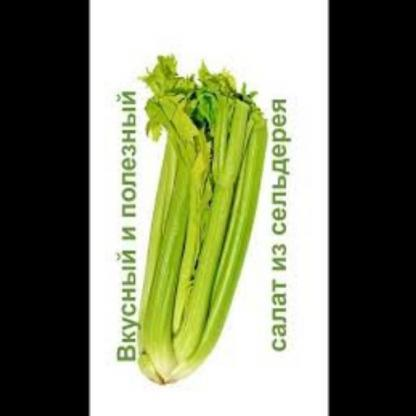celery: (122, 43, 270, 398)
